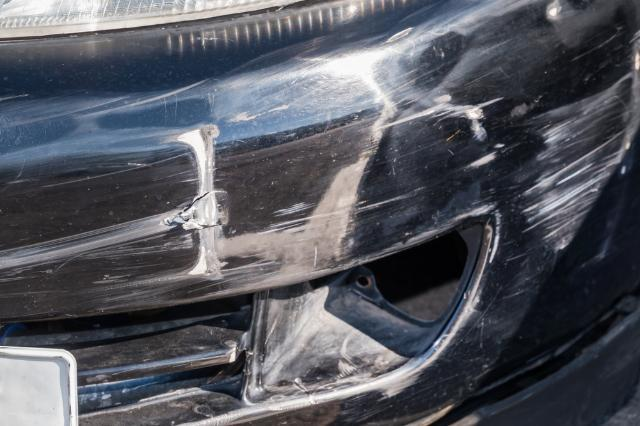rub: (0, 16, 640, 398)
